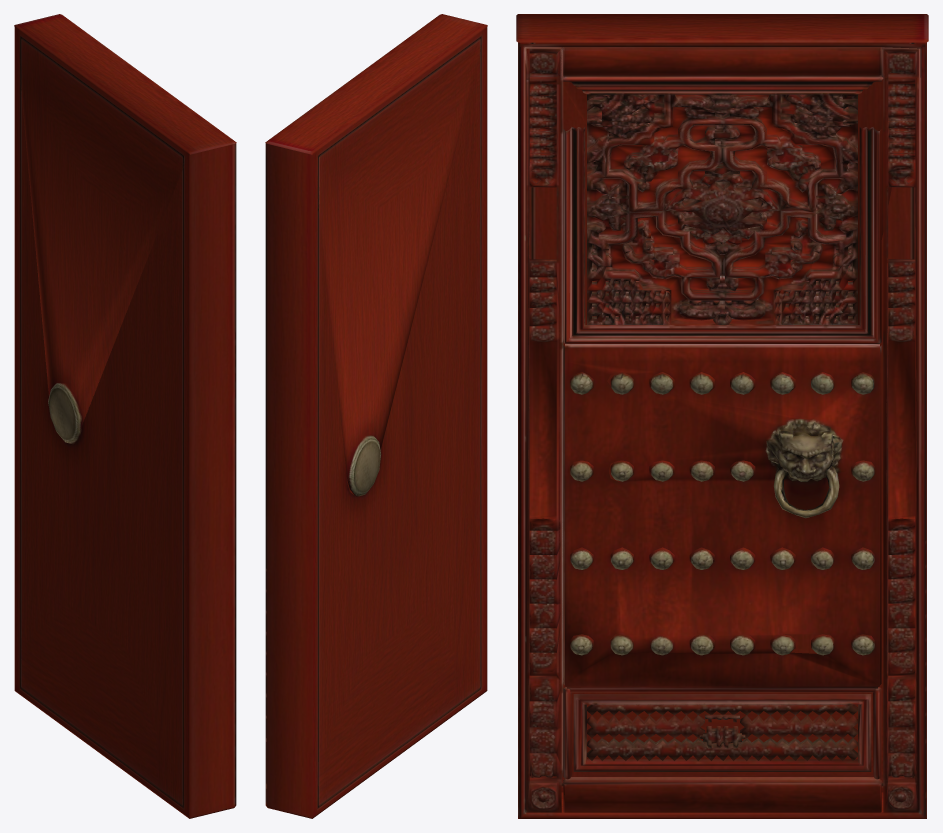
The model's file is museum-door.glb.
3 renders of one model, left to right at view 1: azimuth 30°, elevation 25°; view 2: azimuth 150°, elevation 25°; view 3: azimuth 270°, elevation 25°, orthographic. The views are drawn at different scales.
Parts seen in each view (by area): view 1: tripo_node_4a12b214-4a1d-418e-bb7d-dc4e4a11f2a7; view 2: tripo_node_4a12b214-4a1d-418e-bb7d-dc4e4a11f2a7; view 3: tripo_node_4a12b214-4a1d-418e-bb7d-dc4e4a11f2a7.
Boxes of the visible parts, left/top/right/bottom form: tripo_node_4a12b214-4a1d-418e-bb7d-dc4e4a11f2a7: left=14, top=14, right=236, bottom=818; tripo_node_4a12b214-4a1d-418e-bb7d-dc4e4a11f2a7: left=265, top=14, right=487, bottom=818; tripo_node_4a12b214-4a1d-418e-bb7d-dc4e4a11f2a7: left=516, top=14, right=928, bottom=818.
Size of the model in its own units: 0.2466 by 2.1 by 1.01.
Materials: 1 (1 with a texture image).
